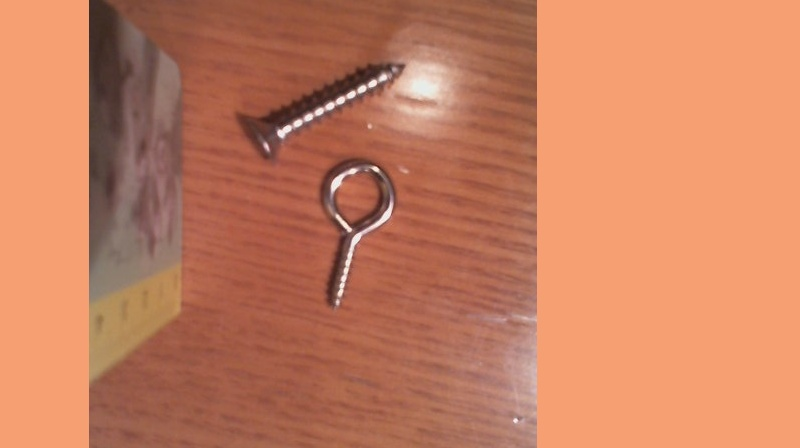O001: (318, 154, 398, 313)
S001: (235, 56, 406, 167)
